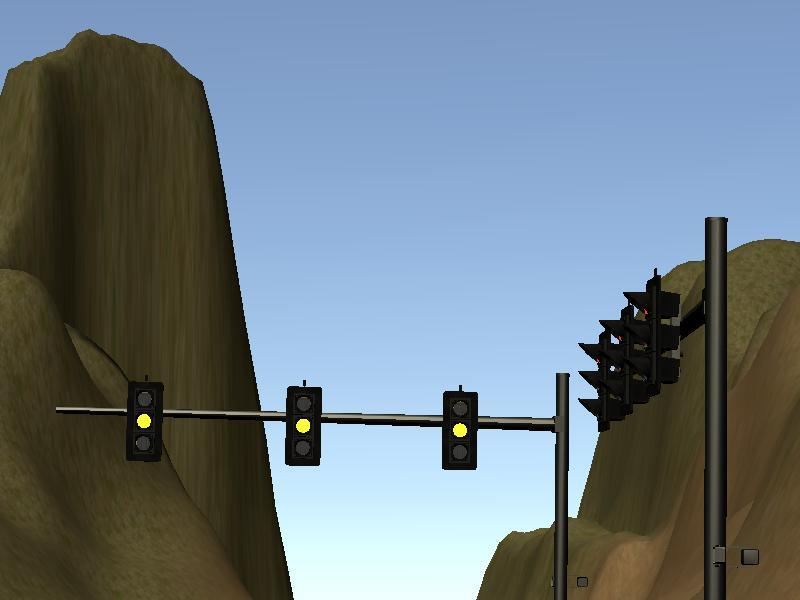Yellow: (125, 381, 163, 463), (440, 390, 478, 472), (284, 386, 322, 468)
